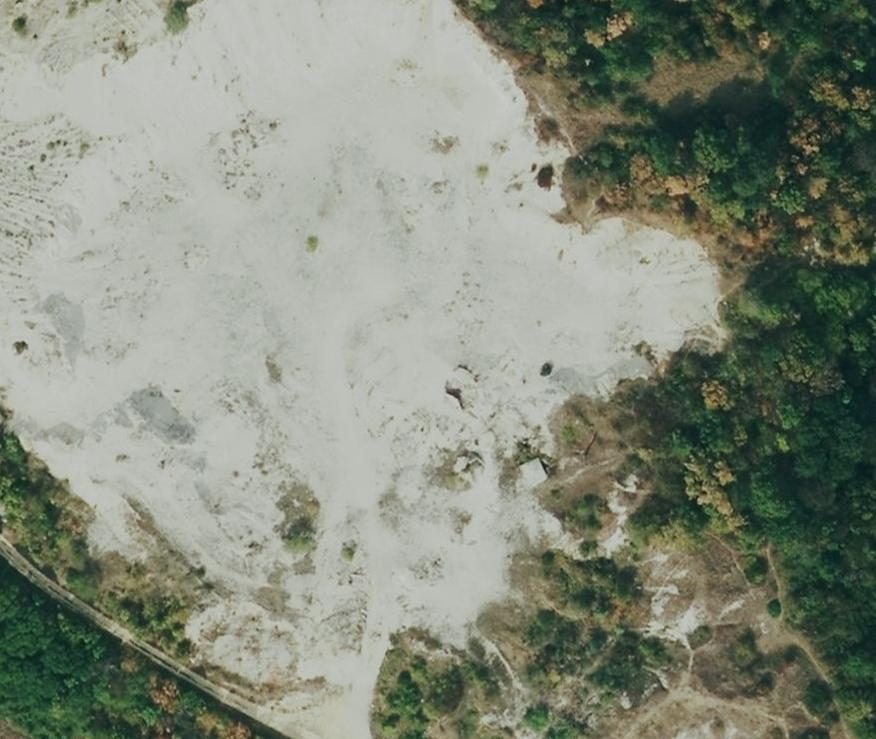field: (0, 2, 719, 736)
forest: (467, 0, 876, 736), (0, 559, 257, 737)
